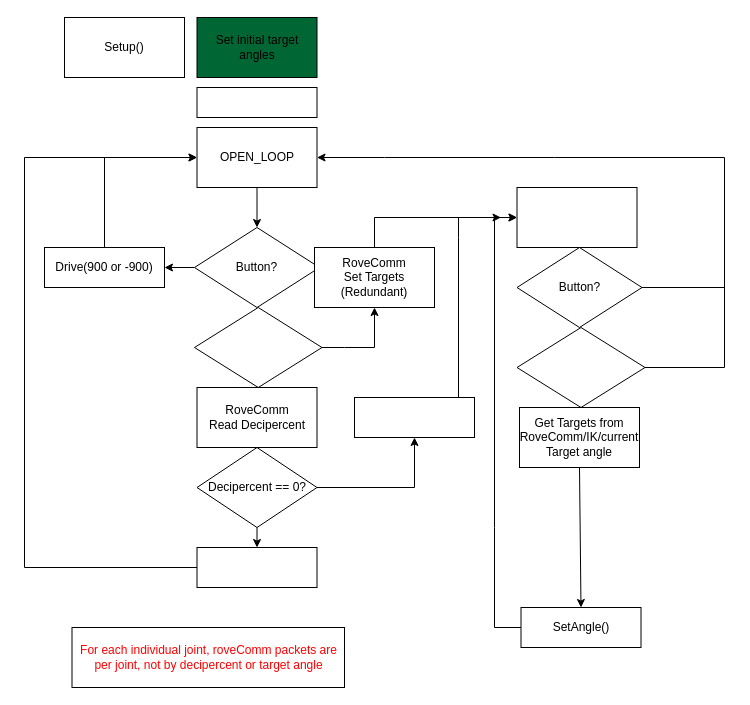
The diagram is 750 pixels wide and 705 high, and some of its shapes have lost their labels. Here are the shapes that lost their labels. From the top down, the centre of each, then its label:
At [256,102]: "Enter Loop".
At [576,217]: "CLOSED_LOOP".
At [258,347]: "RoveComm Set Targets? (From either IK or closed loop)".
At [580,367]: "RoveComm Set Decipercent ?".
At [414,417]: "Update Targets from Encoders".
At [256,567]: "Drive(Decipercent)".
